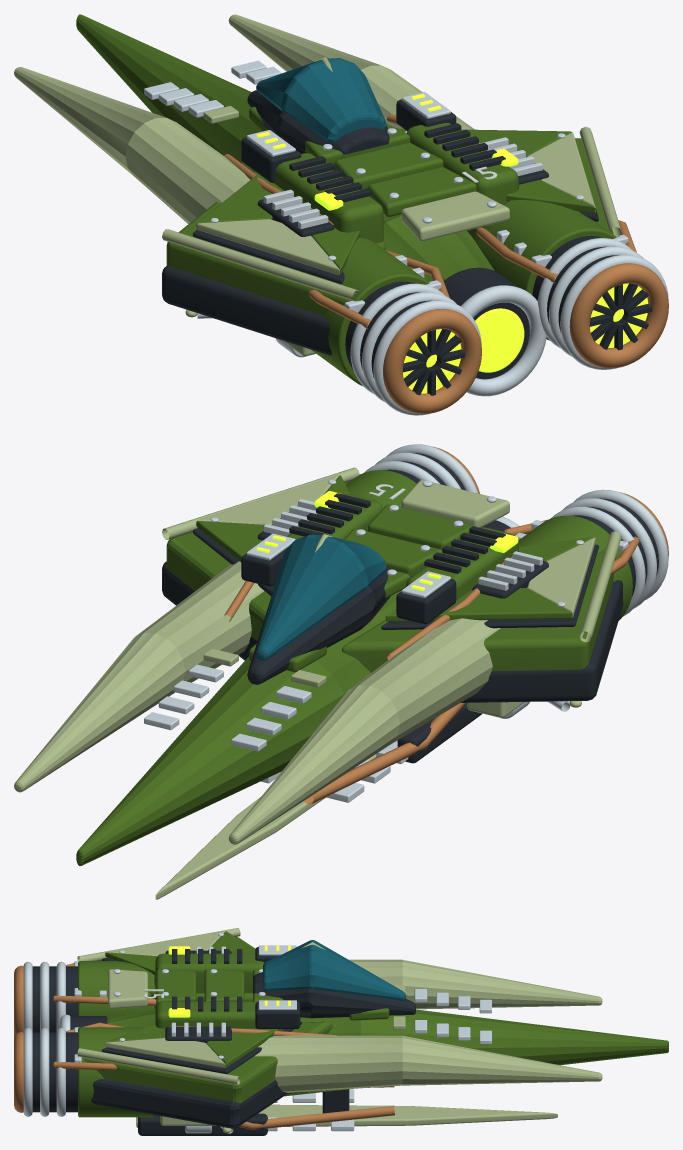
3 renders of one model, top to bottom at view 1: azimuth 30°, elevation 25°; view 2: azimuth 150°, elevation 25°; view 3: azimuth 270°, elevation 25°, orthographic. The views are drawn at different scales.
Visible parts, largest first — view 1: SolidHull_15; view 2: SolidHull_15; view 3: SolidHull_15.
Part boxes in pixels (x1,y1,x2,y2): SolidHull_15: (14,14,668,415); SolidHull_15: (14,444,668,899); SolidHull_15: (14,928,668,1135).
Bounding box in the file's own units: 2.18 × 1.17 × 3.93.
